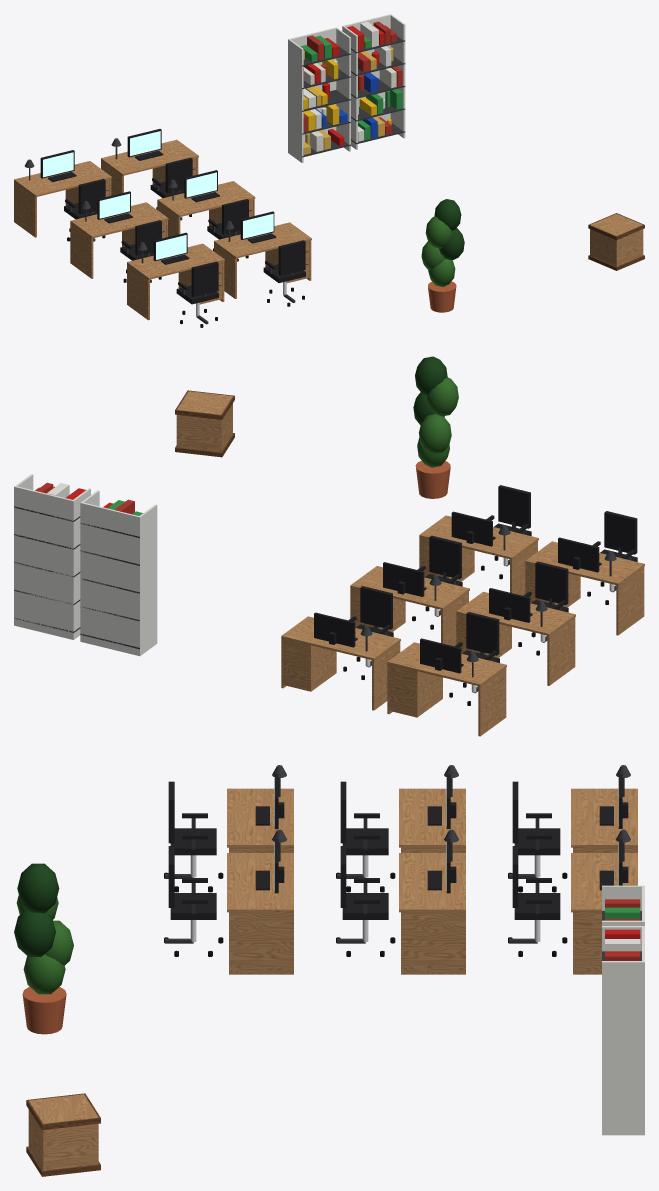
The model's file is i_sheriff_office.gltf.
3 views of the same model, one above another, from view 1: azimuth 30°, elevation 25°; view 2: azimuth 150°, elevation 25°; view 3: azimuth 270°, elevation 25° (orthographic). The views are drawn at different scales.
Visible parts, largest first — view 1: I_sheriff_office; view 2: I_sheriff_office; view 3: I_sheriff_office.
Part boxes in pixels (x1,y1,x2,y2): I_sheriff_office: (14, 14, 644, 327); I_sheriff_office: (14, 356, 644, 736); I_sheriff_office: (14, 765, 644, 1176).
Size of the model in its own units: 8.01 by 2 by 6.61.
19 materials, 3 textured.
